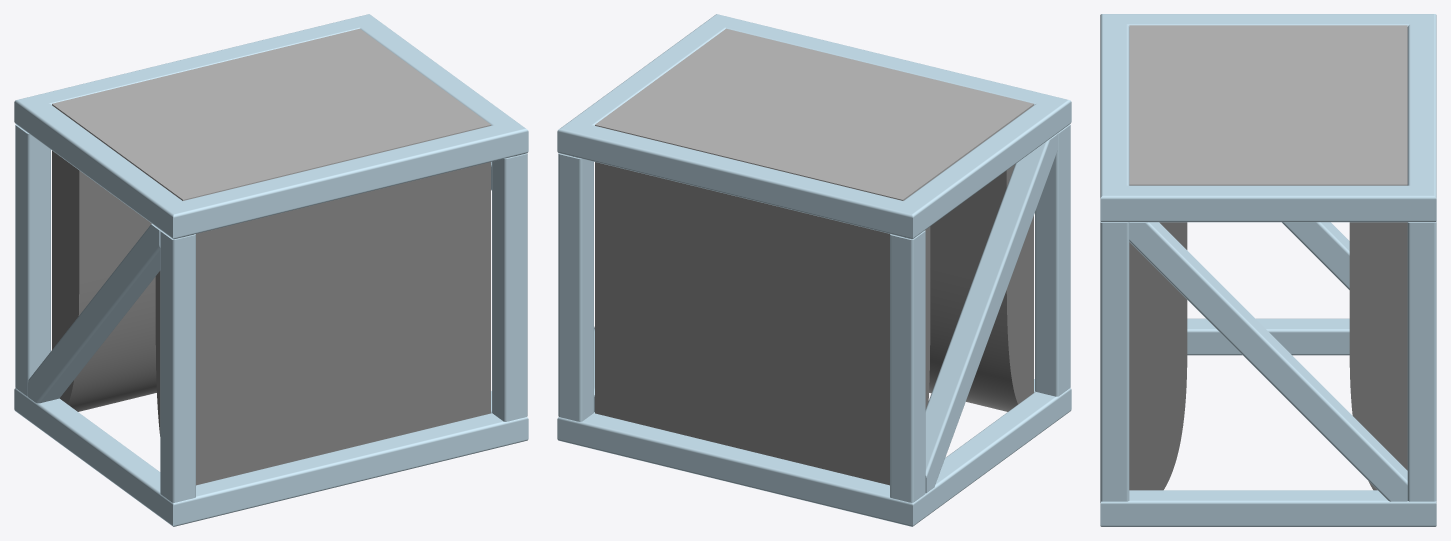
File: dock_station.glb
The picture shows the model from 3 angles, left to right: view 1: azimuth 30°, elevation 25°; view 2: azimuth 150°, elevation 25°; view 3: azimuth 270°, elevation 25°; orthographic projection. The views are drawn at different scales.
Visible parts, largest first — view 1: mesh77.001, mesh99, mesh49.001, mesh49.003, mesh78.001, mesh22.003, mesh18.003, mesh76, mesh75, mesh18, mesh58.001, mesh48.001 (+23 smaller); view 2: mesh77, mesh99, mesh49, mesh49.002, mesh54.001, mesh78, mesh24, mesh20.002, mesh75.001, mesh20.003, mesh58.001, mesh74 (+23 smaller); view 3: mesh99, mesh74.001, mesh76.001, mesh57, mesh13, mesh13.002, mesh22, mesh24.002, mesh48.001, mesh48.003, mesh12.003, mesh12 (+22 smaller).
Boxes of the visible parts, x1=… form: mesh77.001: x1=196, y1=162, x2=490, y2=485; mesh99: x1=52, y1=28, x2=490, y2=199; mesh49.001: x1=173, y1=419, x2=528, y2=525; mesh49.003: x1=173, y1=131, x2=528, y2=237; mesh78.001: x1=68, y1=275, x2=156, y2=411; mesh22.003: x1=175, y1=235, x2=194, y2=502; mesh18.003: x1=507, y1=154, x2=525, y2=421; mesh76: x1=52, y1=150, x2=79, y2=404; mesh75: x1=79, y1=170, x2=151, y2=282; mesh18: x1=30, y1=135, x2=49, y2=376; mesh58.001: x1=28, y1=225, x2=159, y2=402; mesh48.001: x1=19, y1=14, x2=368, y2=103; mesh77: x1=595, y1=162, x2=889, y2=485; mesh99: x1=595, y1=28, x2=1033, y2=199; mesh49: x1=557, y1=131, x2=912, y2=237; mesh49.002: x1=557, y1=419, x2=912, y2=525; mesh54.001: x1=925, y1=142, x2=1045, y2=469; mesh78: x1=929, y1=264, x2=1017, y2=411; mesh24: x1=891, y1=235, x2=910, y2=502; mesh20.002: x1=560, y1=154, x2=578, y2=421; mesh75.001: x1=930, y1=170, x2=1006, y2=274; mesh20.003: x1=1036, y1=157, x2=1055, y2=396; mesh58.001: x1=926, y1=134, x2=1057, y2=492; mesh74: x1=1006, y1=164, x2=1033, y2=404; mesh99: x1=1129, y1=25, x2=1407, y2=184; mesh74.001: x1=1349, y1=222, x2=1407, y2=490; mesh76.001: x1=1129, y1=222, x2=1187, y2=490; mesh57: x1=1129, y1=223, x2=1407, y2=501; mesh13: x1=1100, y1=199, x2=1436, y2=220; mesh13.002: x1=1100, y1=504, x2=1436, y2=525; mesh22: x1=1103, y1=223, x2=1126, y2=501; mesh24.002: x1=1410, y1=223, x2=1433, y2=501; mesh48.001: x1=1410, y1=14, x2=1433, y2=195; mesh48.003: x1=1103, y1=14, x2=1126, y2=195; mesh12.003: x1=1104, y1=185, x2=1432, y2=195; mesh12: x1=1104, y1=14, x2=1432, y2=23.
Size of the model in its own units: 0.75 by 0.63 by 0.58.
